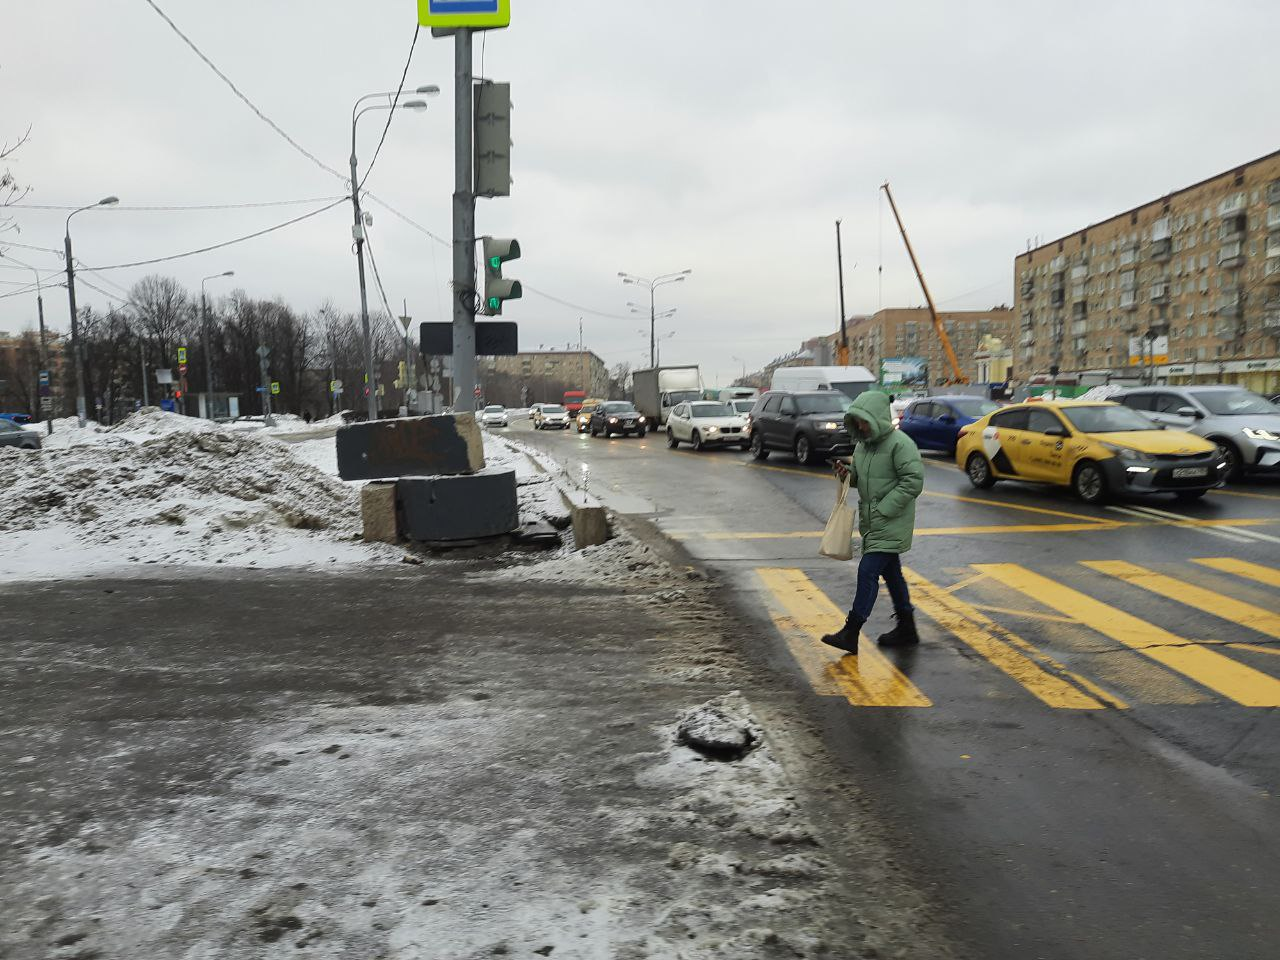sombie: (814, 373, 949, 668)
